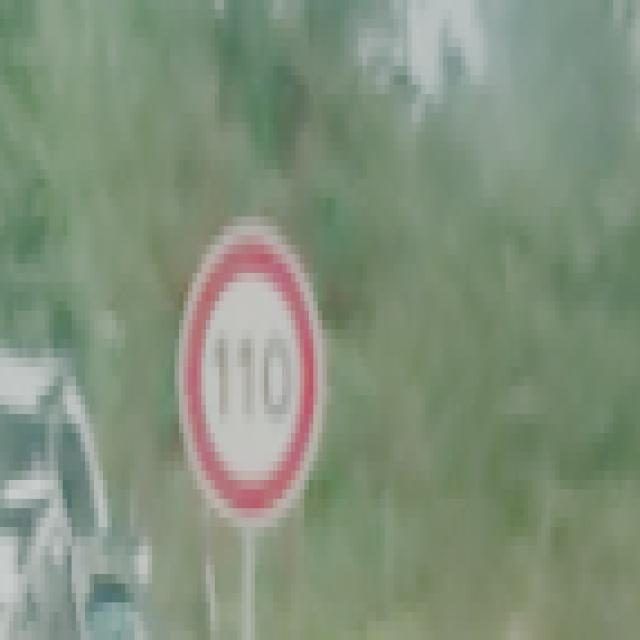speed_110: (176, 220, 330, 533)
